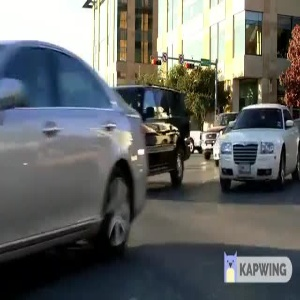car: (212, 99, 299, 194)
